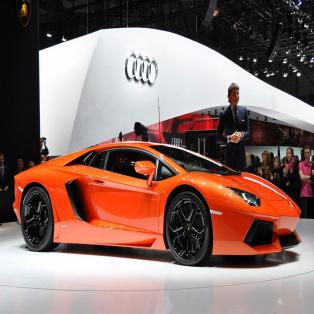Auto: (13, 143, 303, 269)
